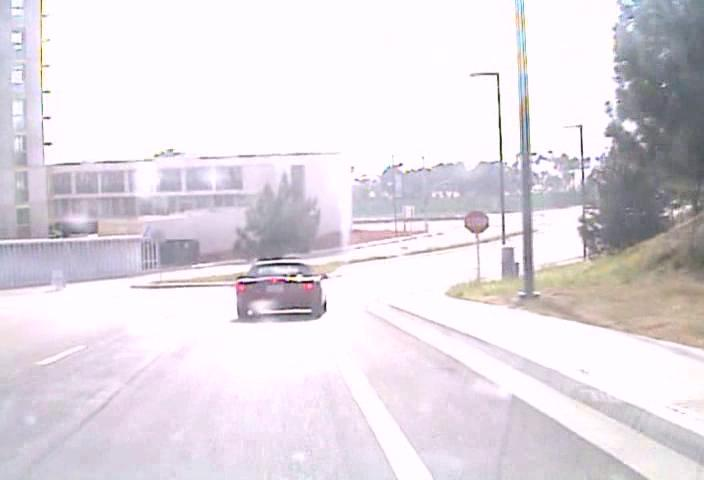stop: (463, 210, 490, 234)
